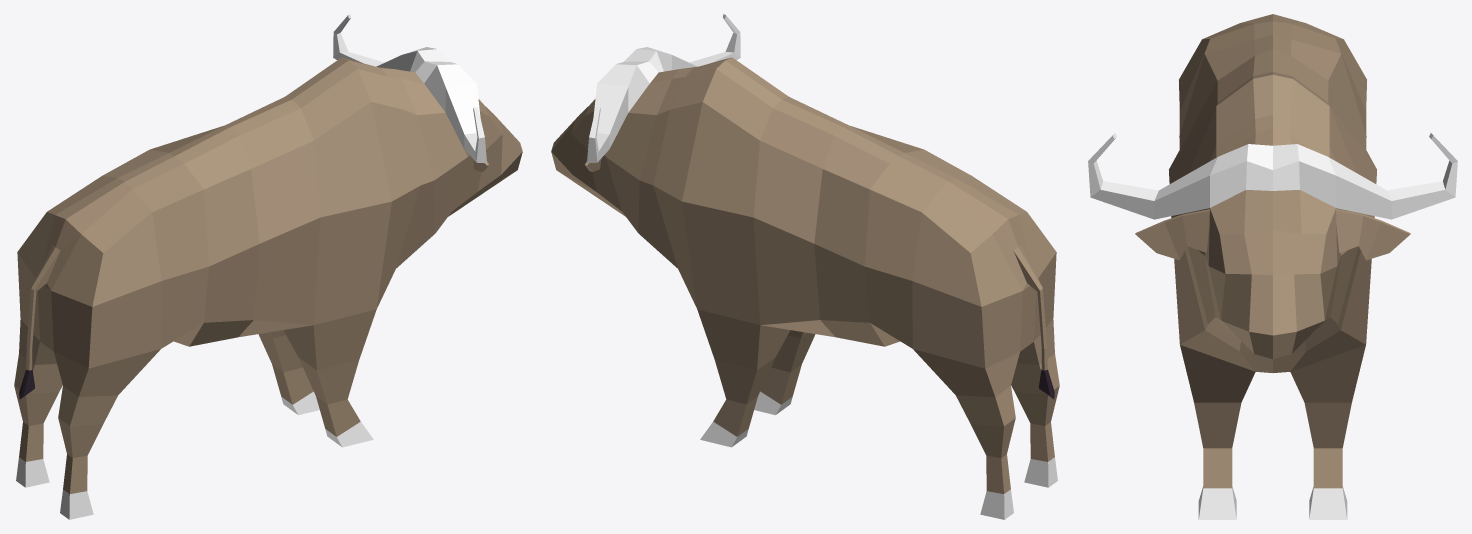
File: Buffalo.fbx
3 views of the same model, side by side, from view 1: azimuth 30°, elevation 25°; view 2: azimuth 150°, elevation 25°; view 3: azimuth 270°, elevation 25° (orthographic). The views are drawn at different scales.
Parts seen in each view (by area): view 1: Buffalo; view 2: Buffalo; view 3: Buffalo.
Boxes of the visible parts, x1=… form: Buffalo: x1=14, y1=14, x2=522, y2=519; Buffalo: x1=551, y1=14, x2=1059, y2=519; Buffalo: x1=1088, y1=14, x2=1457, y2=519.
Bounding box in the file's own units: 411 × 287 × 209.
